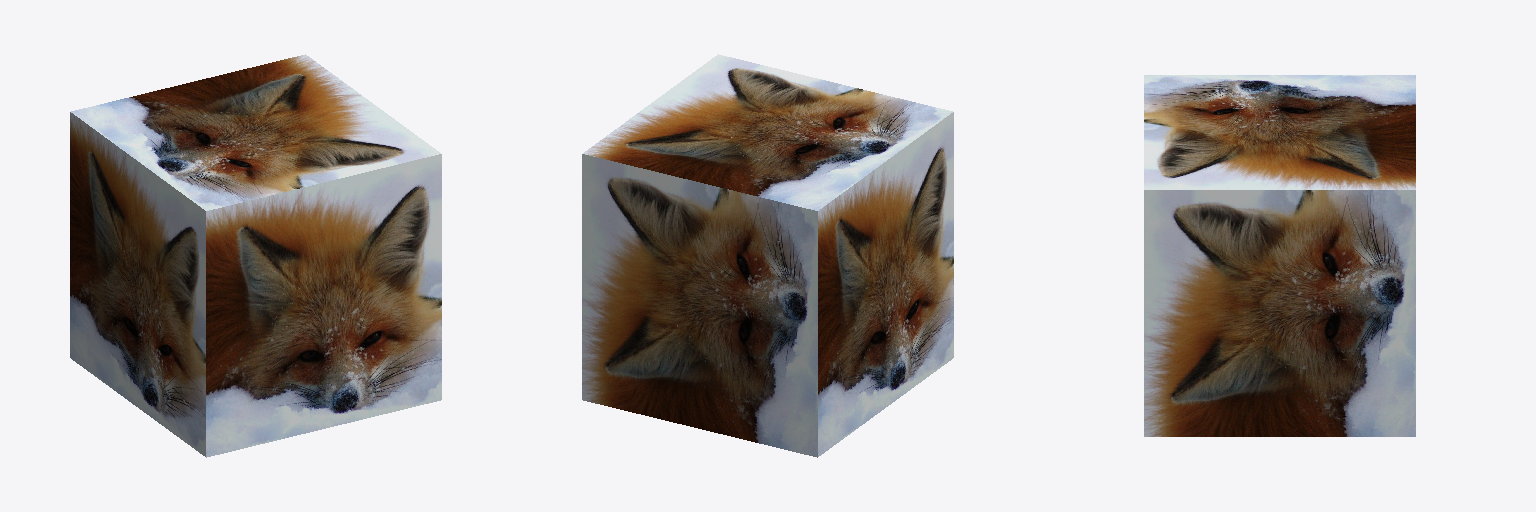
The picture shows the model from 3 angles: view 1: azimuth 30°, elevation 25°; view 2: azimuth 150°, elevation 25°; view 3: azimuth 270°, elevation 25°; orthographic projection.
Visible parts, largest first — view 1: Cube; view 2: Cube; view 3: Cube.
Boxes of the visible parts, box(x1,y1,x2,y2) form: Cube: box(70, 54, 441, 457); Cube: box(582, 54, 953, 457); Cube: box(1144, 75, 1415, 436).
Size of the model in its own units: 2 by 2 by 2.
1 materials, 1 textured.